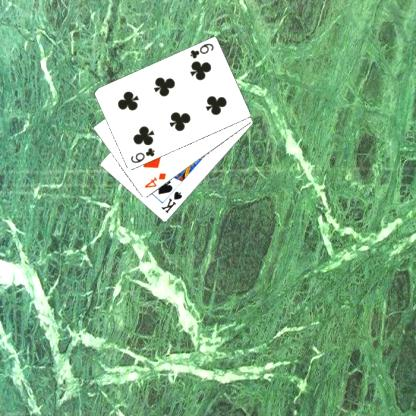4D: (142, 171, 168, 190)
6C: (187, 41, 215, 60), (128, 146, 156, 164)
KS: (158, 189, 184, 215)
